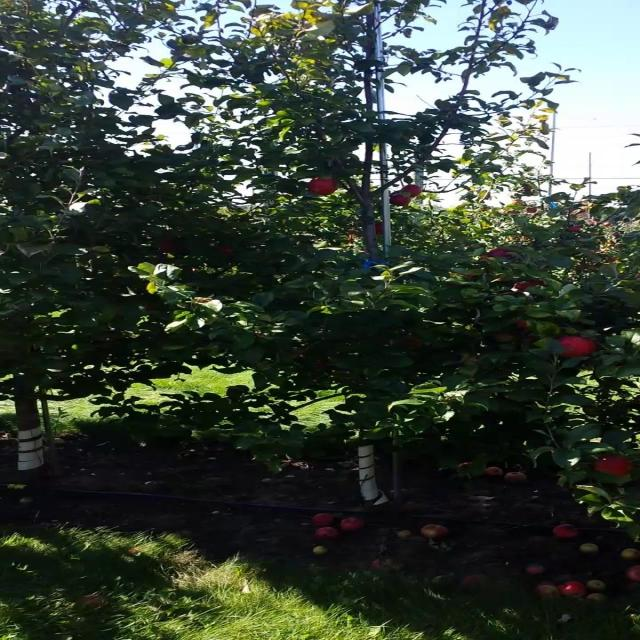apple: (596, 456, 635, 479), (561, 336, 597, 360), (312, 180, 341, 196), (518, 280, 548, 292), (156, 240, 180, 253), (404, 336, 427, 349), (404, 184, 425, 197), (390, 196, 412, 208), (490, 248, 512, 259), (497, 332, 517, 343), (461, 356, 482, 364), (220, 248, 235, 257), (518, 320, 532, 329), (476, 256, 494, 263), (461, 272, 476, 280), (376, 224, 384, 236)
